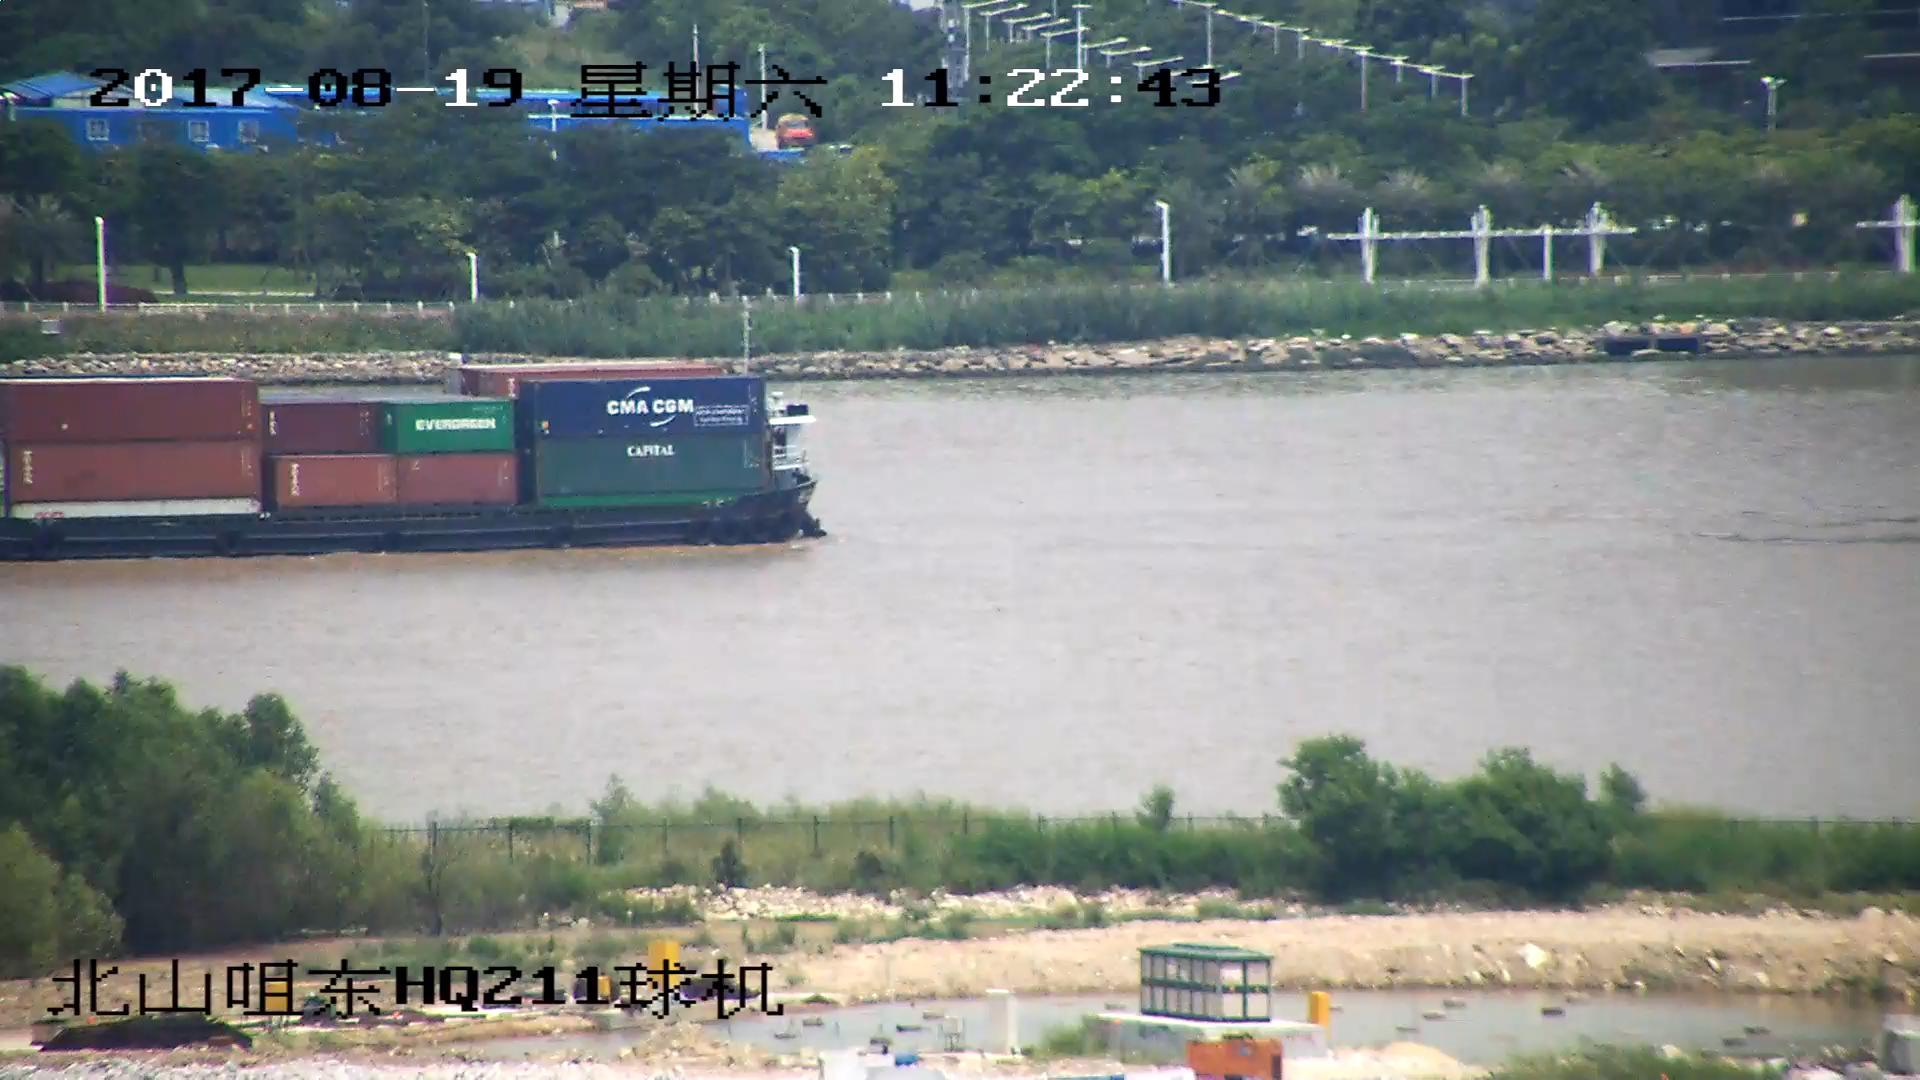Ship: (3, 359, 825, 553)
